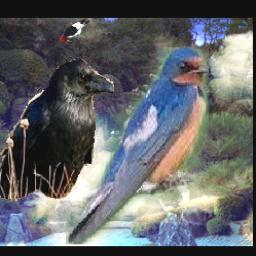Crow: (0, 57, 115, 204)
Swallow: (67, 48, 210, 245)
Woodpecker: (61, 19, 93, 43)
